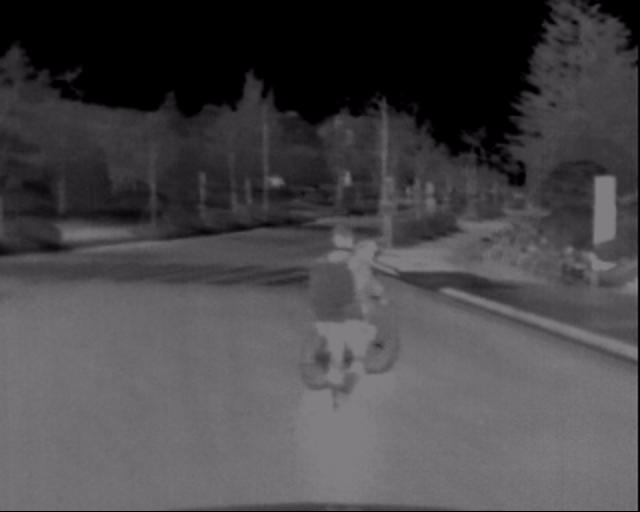person: (322, 222, 389, 425)
